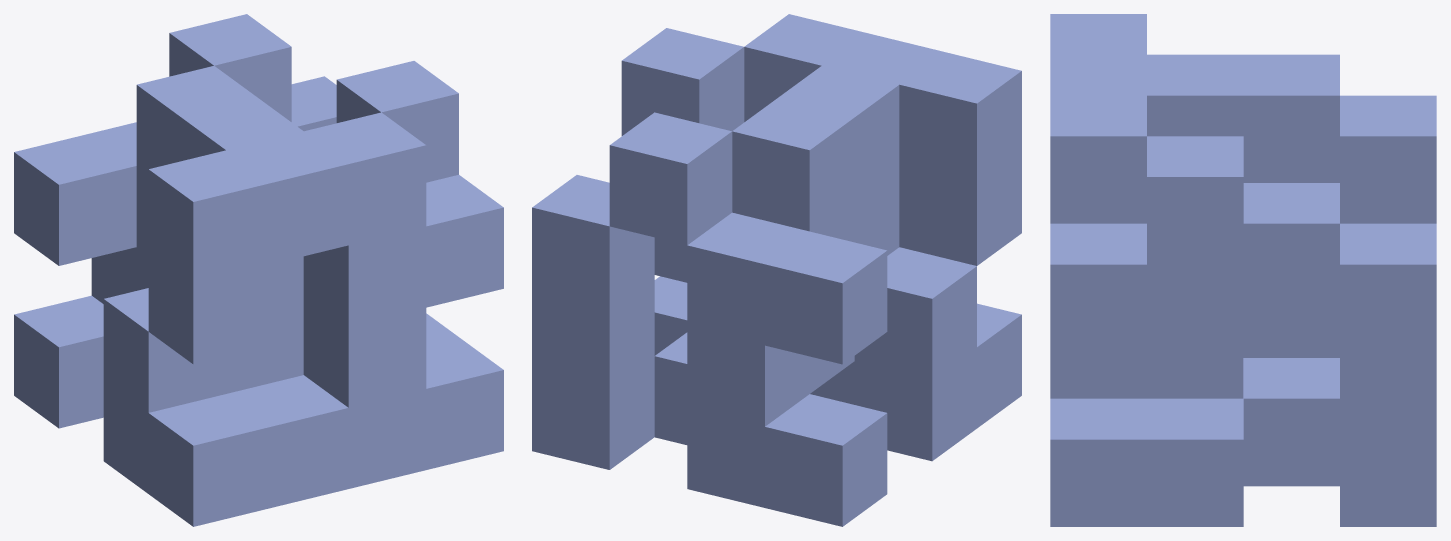
3 renders of one model, left to right at view 1: azimuth 30°, elevation 25°; view 2: azimuth 150°, elevation 25°; view 3: azimuth 270°, elevation 25°, orthographic. The views are drawn at different scales.
Parts seen in each view (by area): view 1: _changes.001; view 2: _changes.001; view 3: _changes.001.
Boxes of the visible parts, x1,y1,x2,y2 form: _changes.001: (14,14,503,526); _changes.001: (532,14,1021,526); _changes.001: (1050,14,1436,526).
Size of the model in its own units: 0.1041 by 0.1041 by 0.1041.
